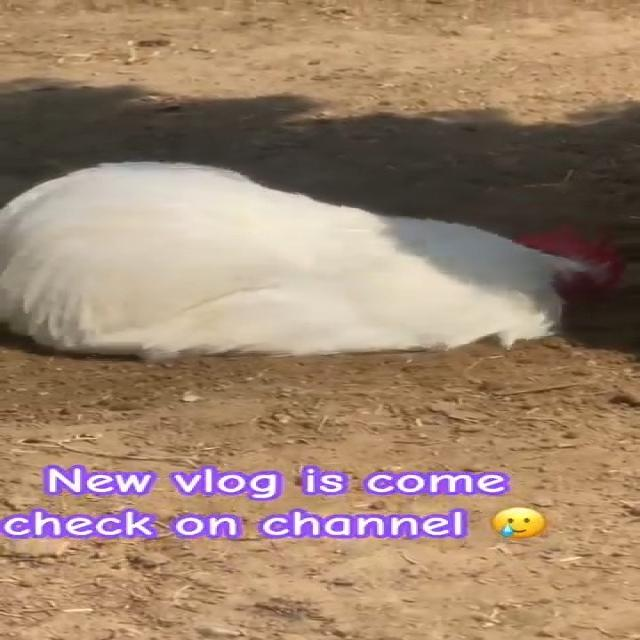stand bath: (11, 148, 615, 366)
